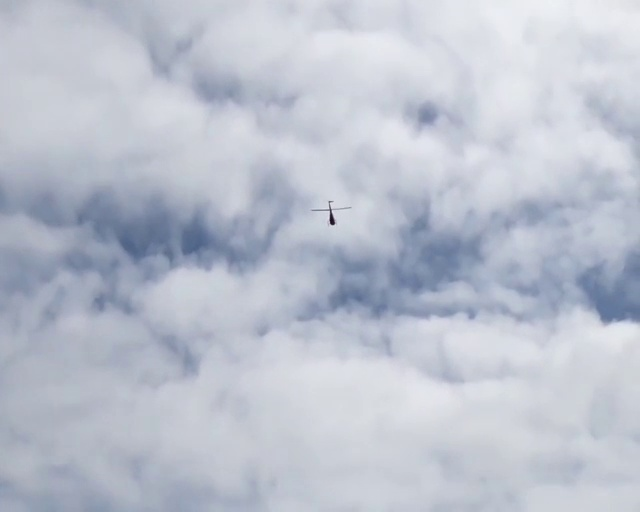HELICOPTER: (311, 199, 352, 226)
